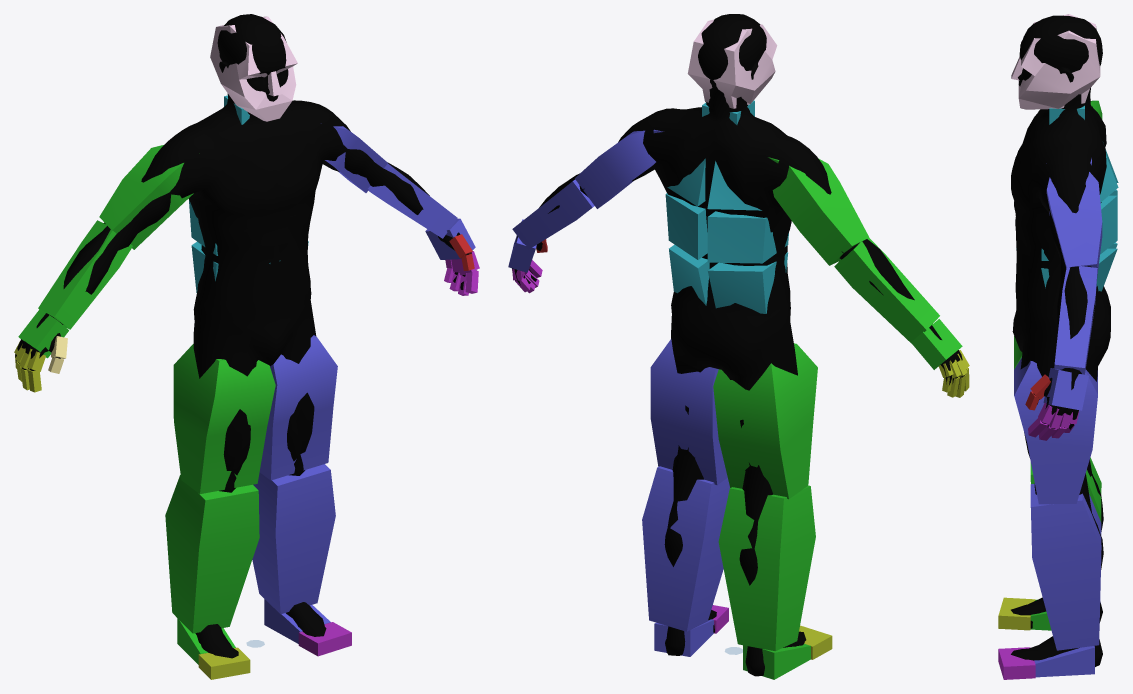
The model's file is nude03_m_highpoly.glb.
3 renders of one model, left to right at view 1: azimuth 30°, elevation 25°; view 2: azimuth 150°, elevation 25°; view 3: azimuth 270°, elevation 25°, orthographic.
Visible parts, largest first — view 1: nude03_m_highpoly, Bip01 R Calf, Bip01 R Thigh, Bip01 L Calf, Bip01 L Thigh, Bip01 Head, Bip01 R UpperArm, Bip01 R Forearm, Bip01 L Forearm, Bip01 L UpperArm, Bip01 L Toe0, Bip01 R Hand (+4 smaller); view 2: nude03_m_highpoly, Bip01 R Calf, Bip01 R Thigh, Bip01 L Calf, Bip01 L Thigh, Bip01 Spine1, Bip01 R UpperArm, Bip01 Spine, Bip01 R Forearm, Bip01 Head, Bip01 L UpperArm, Bip01 L Forearm (+4 smaller); view 3: nude03_m_highpoly, Bip01 L Calf, Bip01 L Thigh, Bip01 Head, Bip01 L UpperArm, Bip01 L Forearm, Bip01 L Foot, Bip01 L Hand, Bip01 L Toe0, Bip01 Spine1, Bip01 R Toe0, Bip01 Spine (+7 smaller).
Boxes of the visible parts, <box> form: nude03_m_highpoly: <box>15,14,476,658</box>; Bip01 R Calf: <box>165,475,259,633</box>; Bip01 R Thigh: <box>173,344,275,493</box>; Bip01 L Calf: <box>252,464,335,614</box>; Bip01 L Thigh: <box>259,335,337,480</box>; Bip01 Head: <box>210,16,297,121</box>; Bip01 R UpperArm: <box>99,145,193,249</box>; Bip01 R Forearm: <box>38,220,132,329</box>; Bip01 L Forearm: <box>368,163,457,238</box>; Bip01 L UpperArm: <box>325,126,388,192</box>; Bip01 L Toe0: <box>298,622,351,656</box>; Bip01 R Hand: <box>18,309,68,358</box>; nude03_m_highpoly: <box>512,14,966,676</box>; Bip01 R Calf: <box>718,485,815,651</box>; Bip01 R Thigh: <box>713,343,817,499</box>; Bip01 L Calf: <box>642,466,729,631</box>; Bip01 L Thigh: <box>650,339,727,484</box>; Bip01 Spine1: <box>665,193,788,263</box>; Bip01 R UpperArm: <box>772,158,869,265</box>; Bip01 Spine: <box>669,244,788,313</box>; Bip01 R Forearm: <box>834,238,939,343</box>; Bip01 Head: <box>687,19,777,108</box>; Bip01 L UpperArm: <box>575,130,655,208</box>; Bip01 L Forearm: <box>512,179,594,249</box>; nude03_m_highpoly: <box>1011,15,1110,666</box>; Bip01 L Calf: <box>1030,483,1101,650</box>; Bip01 L Thigh: <box>1014,357,1097,504</box>; Bip01 Head: <box>1011,14,1100,109</box>; Bip01 L UpperArm: <box>1046,172,1102,277</box>; Bip01 L Forearm: <box>1054,266,1097,374</box>; Bip01 L Foot: <box>1034,646,1094,677</box>; Bip01 L Hand: <box>1043,368,1088,410</box>; Bip01 L Toe0: <box>998,647,1035,679</box>; Bip01 Spine1: <box>1041,189,1117,260</box>; Bip01 R Toe0: <box>998,597,1035,630</box>; Bip01 Spine: <box>1016,242,1117,291</box>.
Bounding box in the file's own units: 1.37 × 1.82 × 0.3154.
